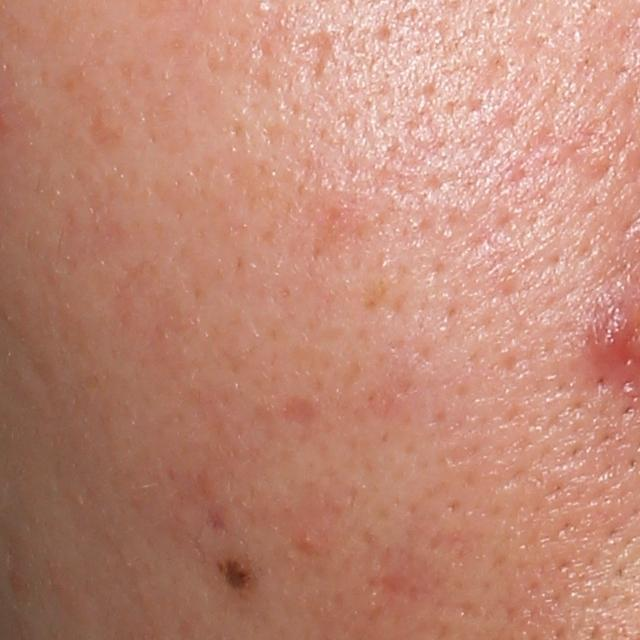atrophic_scar: (293, 23, 341, 83), (276, 394, 320, 427)
nevus: (213, 555, 258, 590)
papule: (296, 528, 323, 554)
